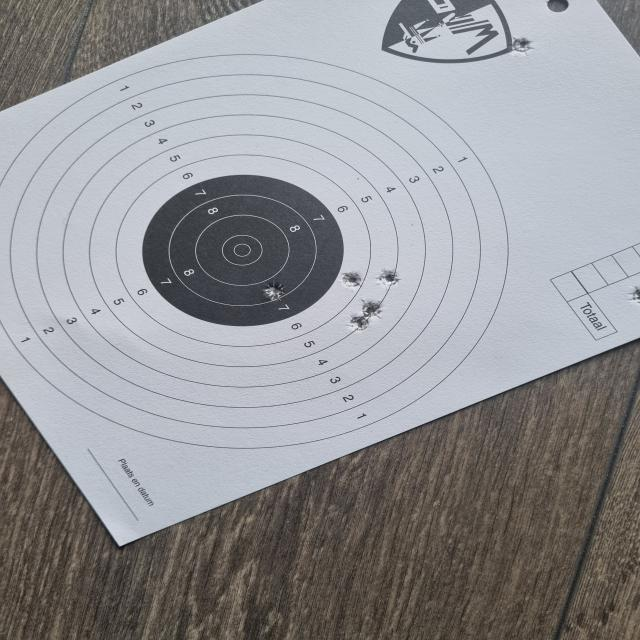0: (508, 36, 535, 56), (628, 284, 640, 304)
5: (361, 299, 383, 319), (375, 270, 400, 286), (346, 316, 369, 331)
6: (341, 272, 364, 287)
8: (263, 284, 286, 302)
Target: (0, 54, 509, 447)
black_contour: (141, 174, 344, 327)
